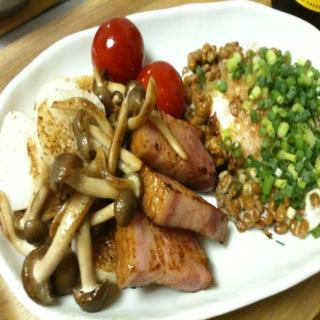tomato: (89, 20, 146, 78), (136, 60, 185, 120)
